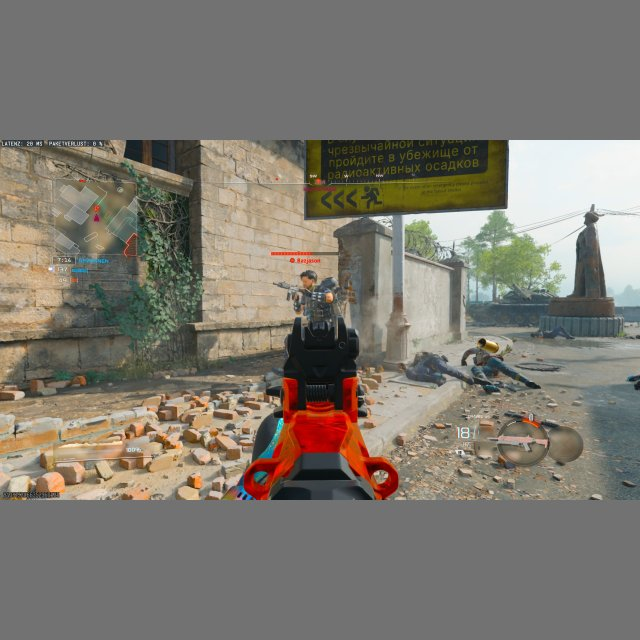head: (300, 269, 317, 288)
